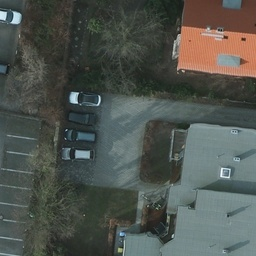car: (68, 89, 101, 106), (60, 146, 95, 161), (63, 129, 97, 143), (1, 5, 22, 27), (69, 112, 98, 125)
